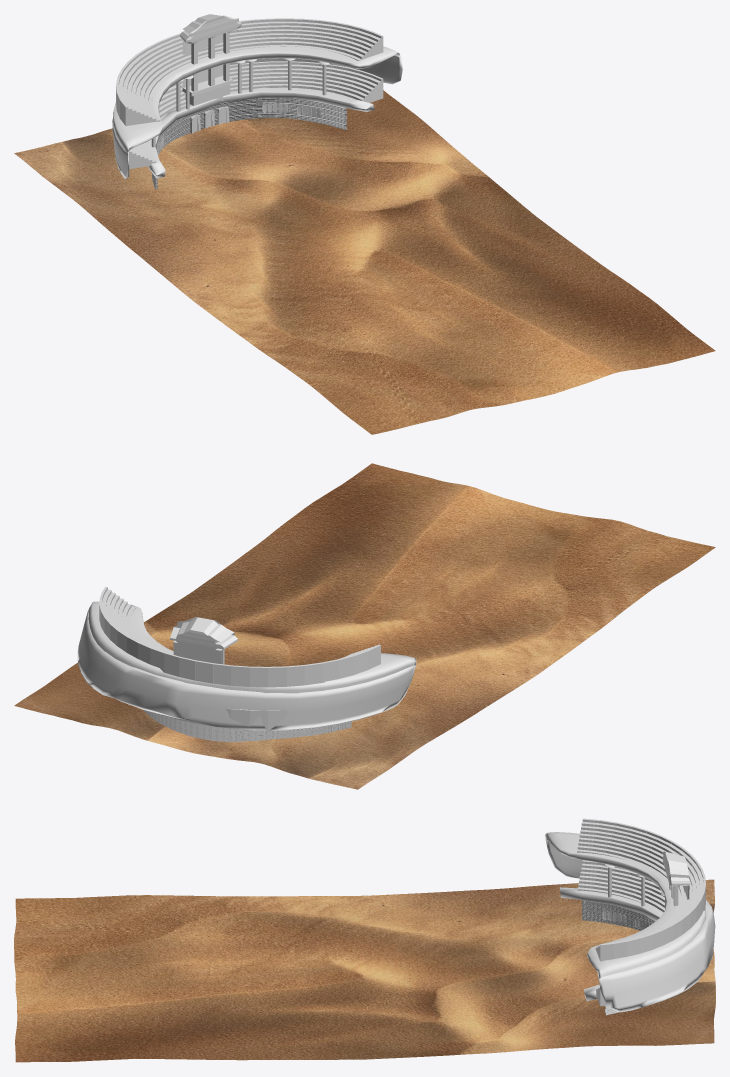
The model's file is %rOME.fbx.
3 renders of one model, top to bottom at view 1: azimuth 30°, elevation 25°; view 2: azimuth 150°, elevation 25°; view 3: azimuth 270°, elevation 25°, orthographic. The views are drawn at different scales.
Visible parts, largest first — view 1: พื้น, ลูกบาศก์.027, ลูกบาศก์.025, ลูกบาศก์.023, ลูกบาศก์.026, ลูกบาศก์.022; view 2: พื้น, ลูกบาศก์.025, ลูกบาศก์.027, ลูกบาศก์.026, ลูกบาศก์.023; view 3: พื้น, ลูกบาศก์.025, ลูกบาศก์.027, ลูกบาศก์.023, ลูกบาศก์.022, ลูกบาศก์.026.
Part boxes in pixels (x1=…): พื้น: x1=14, y1=90, x2=715, y2=434; ลูกบาศก์.027: x1=116, y1=18, x2=383, y2=125; ลูกบาศก์.025: x1=112, y1=44, x2=402, y2=179; ลูกบาศก์.023: x1=128, y1=61, x2=383, y2=168; ลูกบาศก์.026: x1=180, y1=14, x2=241, y2=105; ลูกบาศก์.022: x1=148, y1=87, x2=374, y2=178; พื้น: x1=14, y1=463, x2=715, y2=789; ลูกบาศก์.025: x1=77, y1=601, x2=416, y2=730; ลูกบาศก์.027: x1=99, y1=586, x2=380, y2=687; ลูกบาศก์.026: x1=170, y1=617, x2=237, y2=664; ลูกบาศก์.023: x1=162, y1=708, x2=287, y2=729; พื้น: x1=14, y1=879, x2=715, y2=1062; ลูกบาศก์.025: x1=545, y1=832, x2=715, y2=1012; ลูกบาศก์.027: x1=577, y1=818, x2=705, y2=961; ลูกบาศก์.023: x1=577, y1=860, x2=664, y2=1006; ลูกบาศก์.022: x1=559, y1=887, x2=662, y2=1000; ลูกบาศก์.026: x1=662, y1=851, x2=689, y2=906.
Size of the model in its own units: 72668 by 26779 by 131155.
